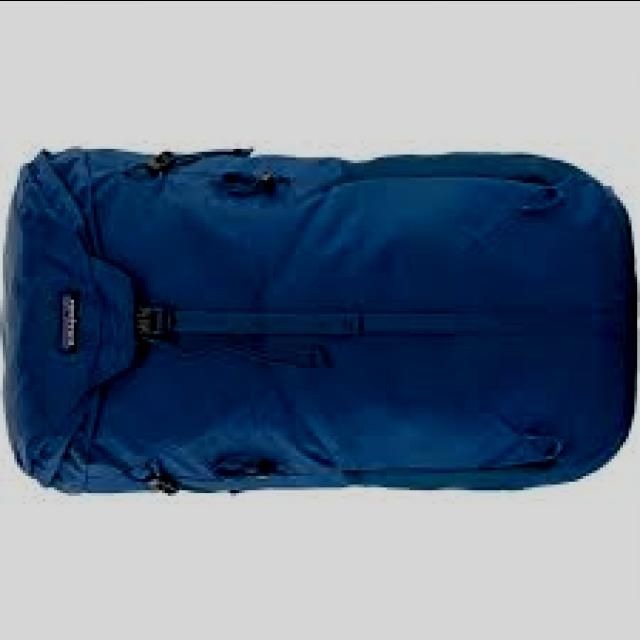backpack: (1, 147, 638, 499)
